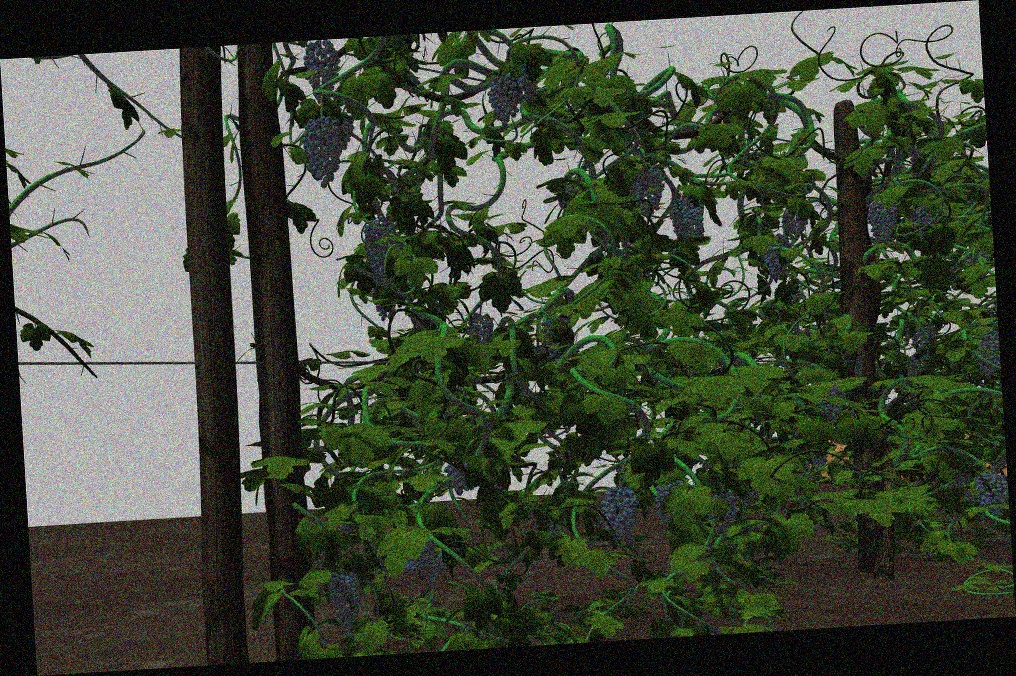grape: (300, 115, 343, 188), (362, 214, 398, 284), (602, 487, 642, 547), (303, 42, 342, 101), (328, 569, 363, 633), (628, 164, 666, 218), (404, 540, 445, 585), (670, 196, 707, 240), (762, 234, 793, 286), (867, 197, 900, 245), (488, 73, 517, 124), (974, 472, 1008, 512), (976, 332, 1000, 379), (781, 205, 809, 243), (466, 312, 495, 347), (511, 68, 540, 103)
